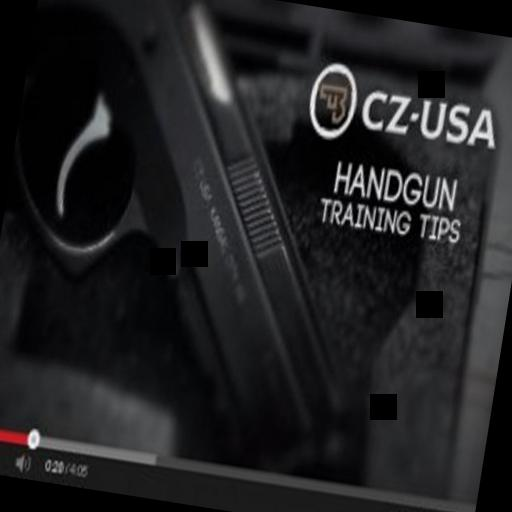Handgun: (0, 0, 415, 473)
